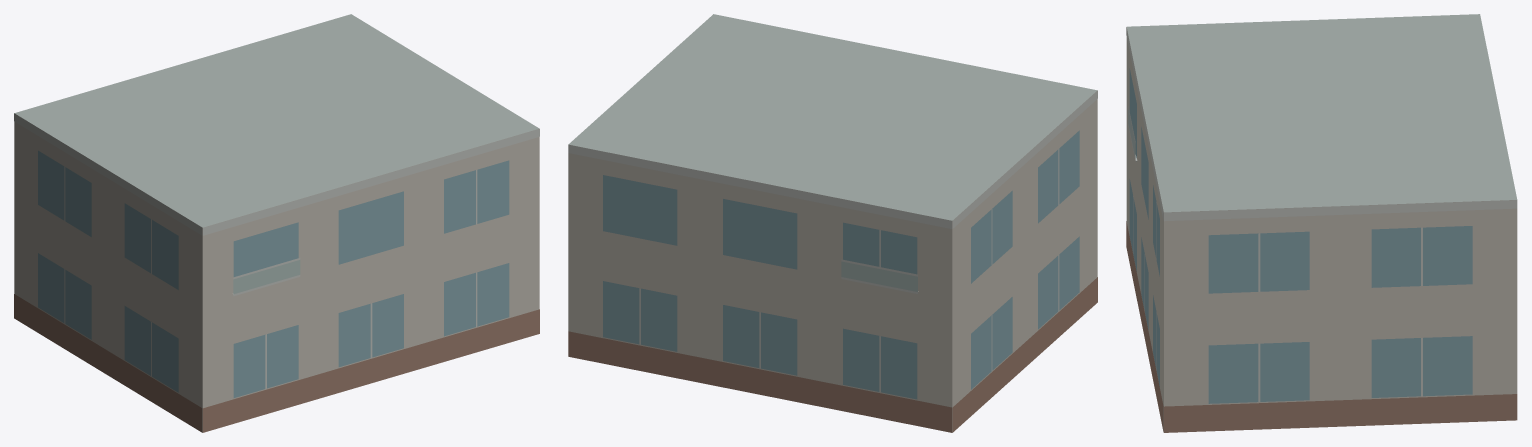
File: survey-upis-32699924.glb
3 renders of one model, left to right at view 1: azimuth 30°, elevation 25°; view 2: azimuth 150°, elevation 25°; view 3: azimuth 270°, elevation 25°, orthographic. The views are drawn at different scales.
Parts seen in each view (by area): view 1: survey-upis-32699924.tmp; view 2: survey-upis-32699924.tmp; view 3: survey-upis-32699924.tmp.
Boxes of the visible parts, x1,y1,x2,y2 form: survey-upis-32699924.tmp: (14,14,539,432); survey-upis-32699924.tmp: (568,14,1097,432); survey-upis-32699924.tmp: (1126,14,1517,432).
Size of the model in its own units: 11.78 by 6.1 by 9.81.
